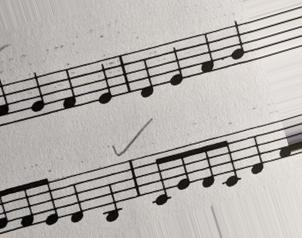note: (26, 71, 48, 120), (94, 57, 115, 106), (67, 173, 86, 226), (136, 48, 155, 100), (227, 17, 246, 68), (59, 65, 79, 113), (199, 29, 218, 75), (167, 40, 185, 87), (249, 127, 266, 176)
